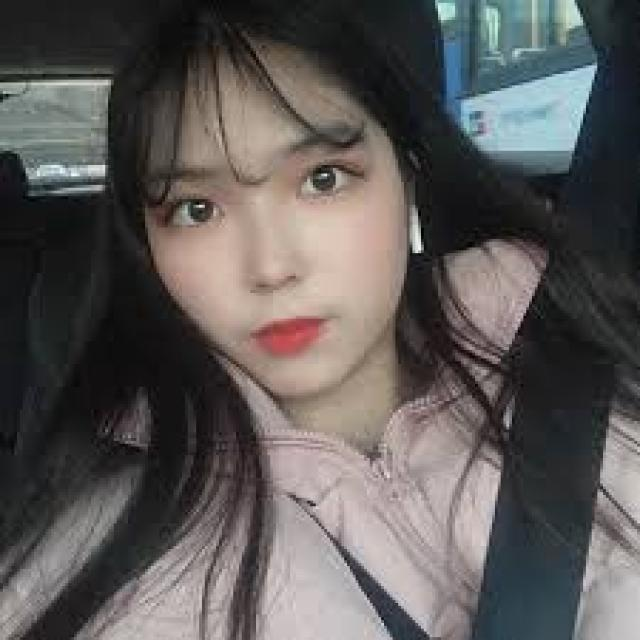earphone: (394, 194, 441, 266)
